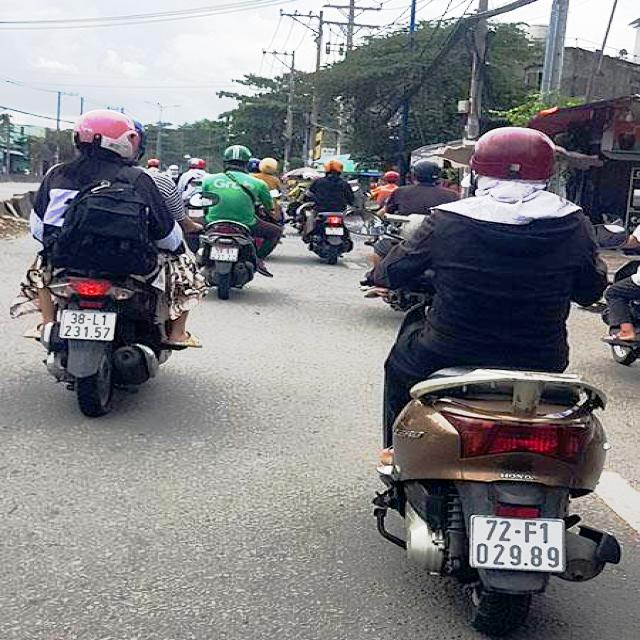license_plate: (471, 515, 566, 572)
